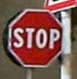stop: (5, 7, 63, 68)
